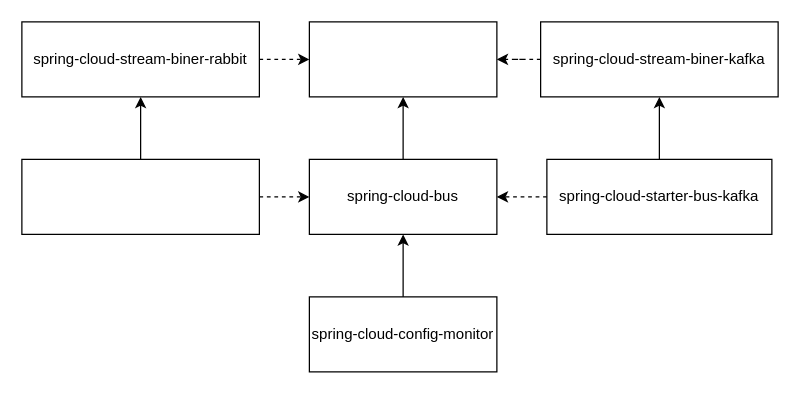
This 800x394 diagram has some shape labels left out. The box of each missing label's shape, as (x1, y1, x2, y2) in pixels:
spring-cloud-starter-bus-amqp: (21, 158, 259, 234)
spring-cloud-stream: (308, 21, 497, 97)
